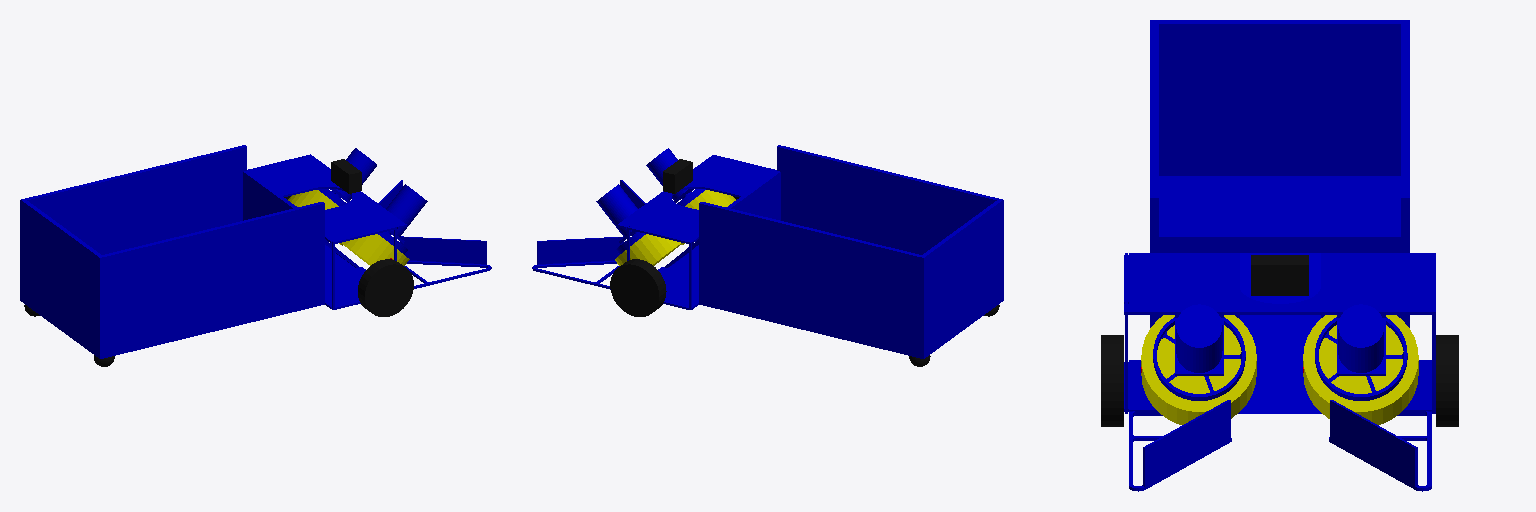
robot.urdf — tennis_bot:
<?xml version="1.0"?>
<robot name="tennis_bot">

  <!-- 註解方式 -->
  <link name="base_link">
  </link>

  <joint name="base_to_chassis" type="fixed">
    <parent link="base_link"/>
    <child link="front_chassis"/>
    <origin xyz="0 0 0.02" rpy="0 0 -1.5708"/>  
  </joint>
  <joint name="base_to_rear" type="fixed">
    <parent link="base_link"/>
    <child link="rear_basket"/>
    <origin xyz="0 -0.01 0" rpy="0 0 -1.5708"/> 
  </joint>
  
  <!-- 前車體 -->
  <link name="front_chassis">
    <visual>
      <geometry>
        <mesh filename="package://tennis_bot/urdf/meshes/front_chassis.stl" scale="0.001 0.001 0.001"/>
      </geometry>
      <material name="blue">
        <color rgba="0 0 0.8 1"/>
      </material>
    </visual>
    <inertial>
      <mass value="0.1"/>
      <inertia ixx="0.01" ixy="0.0" ixz="0.0" iyy="0.01" iyz="0.0" izz="0.01"/>
    </inertial>
  </link>
  
  <!-- 後車體 -->
  <link name="rear_basket">
    <visual>
      <geometry>
        <mesh filename="package://tennis_bot/urdf/meshes/rear_basket.stl" scale="0.001 0.001 0.001"/>
      </geometry>
      <material name="blue">
        <color rgba="0 0 0.8 1"/>
      </material>
    </visual>
    <collision>
      <geometry>
        <mesh filename="package://tennis_bot/urdf/meshes/rear_basket.stl" scale="0.001 0.001 0.001"/>
      </geometry>
    </collision>
    <inertial>
      <mass value="0.5"/>
      <inertia ixx="0.05" ixy="0.05" ixz="0.05" iyy="0.05" iyz="0.05" izz="0.05"/>
    </inertial>
  </link>

  <!-- 左滾輪 -->
  <link name="left_roller">
    <visual>
      <geometry><cylinder radius="0.05" length="0.04"/></geometry>
      <material name="blue"><color rgba="0.8 0.8 0 1"/></material>
    </visual>
    <visual>
      <origin xyz="0.045 0 0" rpy="0 0 0"/> <geometry><box size="0.01 0.01 0.01"/></geometry>
      <material name="red"><color rgba="1 0 0 1"/></material>
    </visual>
    <!-- 撿球改用物理滾輪：恢復碰撞 (原始版本就是半徑0.045)，海綿壓縮用下面 gazebo reference 的 kp/kd -->
    <collision>
      <geometry><cylinder radius="0.045" length="0.04"/></geometry>
    </collision>
    <inertial>
      <mass value="0.5"/>
      <inertia ixx="0.0005" ixy="0.0" ixz="0.0" iyy="0.0005" iyz="0.0" izz="0.0005"/>
    </inertial>
  </link>

  <joint name="left_roller_joint" type="continuous">
    <parent link="front_chassis"/>
    <child link="left_roller"/>
    <!--origin xyz="0.065 0.15 0.03" rpy="-0.785398 0 0"/-->
    <origin xyz="0.065 0.102322 0.045104" rpy="-0.785398 0 0"/>
    <axis xyz="0 0 1"/>
  </joint>

  <!-- 右滾輪 -->
  <link name="right_roller">
    <visual>
      <geometry><cylinder radius="0.05" length="0.04"/></geometry>
      <material name="blue"><color rgba="0.8 0.8 0 1"/></material>
    </visual>
    <visual>
      <origin xyz="0.045 0 0" rpy="0 0 0"/> <geometry><box size="0.01 0.01 0.01"/></geometry>
      <material name="red"><color rgba="1 0 0 1"/></material>
    </visual>
    <!-- 撿球改用物理滾輪：恢復碰撞 (原始版本就是半徑0.045)，海綿壓縮用下面 gazebo reference 的 kp/kd -->
    <collision>
      <geometry><cylinder radius="0.045" length="0.04"/></geometry>
    </collision>
    <inertial>
      <mass value="0.5"/>
      <inertia ixx="0.0005" ixy="0.0" ixz="0.0" iyy="0.0005" iyz="0.0" izz="0.0005"/>
    </inertial>
  </link>

  <joint name="right_roller_joint" type="continuous">
    <parent link="front_chassis"/>
    <child link="right_roller"/>
    <!--origin xyz="0.205 0.15 0.03" rpy="-0.785398 0 0"/-->
    <origin xyz="0.205 0.102322 0.045104" rpy="-0.785398 0 0"/>
    <axis xyz="0 0 1"/>
  </joint>

  <!-- 左驅動輪 -->
  <link name="left_drive_wheel">
    <visual>
      <geometry>
        <cylinder radius="0.04" length="0.02"/>
      </geometry>
      <material name="black">
        <color rgba="0.1 0.1 0.1 1"/>
      </material>
    </visual>
    <collision>
      <geometry><cylinder radius="0.04" length="0.02"/></geometry>
      <surface><friction><ode><mu>5.0</mu><mu2>5.0</mu2></ode></friction></surface>
    </collision>
    <inertial>
      <mass value="0.2"/>
      <inertia ixx="0.01" ixy="0.0" ixz="0.0" iyy="0.01" iyz="0.0" izz="0.01"/>
    </inertial>
  </link>

  <joint name="left_wheel_joint" type="continuous">
    <parent link="front_chassis"/>
    <child link="left_drive_wheel"/>
    <origin xyz="-0.01 0.08 0.02" rpy="0 1.5708 0"/>
    <axis xyz="0 0 -1"/> 
  </joint>

  <!-- 右驅動輪 -->
  <link name="right_drive_wheel">
    <visual>
      <geometry>
        <cylinder radius="0.04" length="0.02"/>
      </geometry>
      <material name="black"/>
    </visual>
    <collision>
      <geometry><cylinder radius="0.04" length="0.02"/></geometry>
      <surface><friction><ode><mu>5.0</mu><mu2>5.0</mu2></ode></friction></surface>
    </collision>
    <inertial>
      <mass value="0.2"/>
      <inertia ixx="0.01" ixy="0.0" ixz="0.0" iyy="0.01" iyz="0.0" izz="0.01"/>
    </inertial>
  </link>

  <joint name="right_wheel_joint" type="continuous">
    <parent link="front_chassis"/>
    <child link="right_drive_wheel"/>
    <origin xyz="0.28 0.08 0.02" rpy="0 1.5708 0"/>
    <axis xyz="0 0 -1"/>
  </joint>

  <!-- 後車體左萬象輪 -->
  <link name="rear_left_caster">
    <visual>
      <geometry><sphere radius="0.015"/></geometry>
      <material name="black"/>
    </visual>
    <collision>
      <geometry><sphere radius="0.015"/></geometry>
      <surface><friction><ode><mu>0.0</mu><mu2>0.0</mu2></ode></friction></surface>
    </collision>
    <inertial>
      <mass value="0.1"/>
      <inertia ixx="0.0001" ixy="0.0" ixz="0.0" iyy="0.0001" iyz="0.0" izz="0.0001"/>
    </inertial>
  </link>

  <joint name="rear_left_caster_joint" type="fixed">
    <parent link="rear_basket"/>
    <child link="rear_left_caster"/>
    <origin xyz="0.028 -0.349 0.015" rpy="0 0 0"/>
  </joint>

  <!-- 後車體右萬象輪 -->
  <link name="rear_right_caster">
    <visual>
      <geometry><sphere radius="0.015"/></geometry>
      <material name="black"/>
    </visual>
    <collision>
      <geometry><sphere radius="0.015"/></geometry>
      <surface><friction><ode><mu>0.0</mu><mu2>0.0</mu2></ode></friction></surface>
    </collision>
    <inertial>
      <mass value="0.1"/>
      <inertia ixx="0.0001" ixy="0.0" ixz="0.0" iyy="0.0001" iyz="0.0" izz="0.0001"/>
    </inertial>
  </link>

  <joint name="rear_right_caster_joint" type="fixed">
    <parent link="rear_basket"/>
    <child link="rear_right_caster"/>
    <origin xyz="0.222 -0.349 0.015" rpy="0 0 0"/>
  </joint>



  <!-- gazebo 滾輪 -->
  <gazebo reference="left_roller">
    <material>Gazebo/Blue</material>
    <mu1>1.5</mu1>
    <mu2>1.5</mu2>
    <kp>150</kp>
    <kd>4.2</kd>
    <min_depth>0.001</min_depth>
    <max_vel>10</max_vel>
  </gazebo>
  <gazebo reference="right_roller">
    <material>Gazebo/Blue</material>
    <mu1>1.5</mu1>
    <mu2>1.5</mu2>
    <kp>150</kp>
    <kd>4.2</kd>
    <min_depth>0.001</min_depth>
    <max_vel>10</max_vel>
  </gazebo>
  
    <gazebo>
    <plugin name="roller_drive" filename="libgazebo_ros_diff_drive.so">
      <ros>
        <namespace>/</namespace>
        <remapping>cmd_vel:=roller_cmd</remapping>
        <remapping>odom:=roller_odom_dump</remapping>
      </ros>
      <left_joint>left_roller_joint</left_joint>
      <right_joint>right_roller_joint</right_joint>
      <wheel_separation>0.14</wheel_separation>
      <wheel_diameter>0.09</wheel_diameter>
      <max_wheel_torque>50.0</max_wheel_torque>
      <max_wheel_acceleration>10.0</max_wheel_acceleration>
      <publish_odom>false</publish_odom>
      <publish_odom_tf>false</publish_odom_tf>
      <publish_wheel_tf>false</publish_wheel_tf>
    </plugin>
  </gazebo>
  <gazebo>
    <plugin name="joint_state_publisher" filename="libgazebo_ros_joint_state_publisher.so">
      <ros>
        <namespace>/</namespace>
      </ros>
      <update_rate>30</update_rate>
      <joint_name>left_wheel_joint</joint_name>
      <joint_name>right_wheel_joint</joint_name>
      <joint_name>left_roller_joint</joint_name>
      <joint_name>right_roller_joint</joint_name>
    </plugin>
  </gazebo>


  <!-- gazebo 驅動倫 -->
  <gazebo reference="left_drive_wheel">
    <mu1>200.0</mu1>
    <mu2>200.0</mu2>
    <material>Gazebo/Black</material>
  </gazebo>
  <gazebo reference="right_drive_wheel">
    <mu1>200.0</mu1>
    <mu2>200.0</mu2>
    <material>Gazebo/Black</material>
  </gazebo>

  <gazebo>
    <plugin name="diff_drive" filename="libgazebo_ros_diff_drive.so">
      <ros>
        <namespace>/</namespace>
        <remapping>cmd_vel:=cmd_vel</remapping>
        <remapping>odom:=odom</remapping>
      </ros>
      <left_joint>left_wheel_joint</left_joint>
      <right_joint>right_wheel_joint</right_joint>
      <wheel_separation>0.27</wheel_separation>
      <wheel_diameter>0.08</wheel_diameter>
      <max_wheel_torque>2.0</max_wheel_torque>
      <max_wheel_acceleration>1.0</max_wheel_acceleration>
      <publish_odom>true</publish_odom>
      <publish_odom_tf>true</publish_odom_tf>
      <publish_wheel_tf>true</publish_wheel_tf>
      <odometry_frame>odom</odometry_frame>
      <robot_base_frame>base_link</robot_base_frame>
    </plugin>
  </gazebo> 

<link name="camera_link">
    <visual>
      <geometry><box size="0.02 0.05 0.03"/></geometry>
      <material name="black"><color rgba="0.1 0.1 0.1 1"/></material>
    </visual>
    <inertial>
      <mass value="0.005"/>
      <inertia ixx="0.0001" ixy="0.0" ixz="0.0" iyy="0.0001" iyz="0.0" izz="0.0001"/>
    </inertial>
</link>

<joint name="camera_joint" type="fixed">
    <parent link="front_chassis"/>
    <child link="camera_link"/>
    <origin xyz="0.135 0.1 0.13" rpy="0 0 1.5708"/> 
</joint>

<gazebo reference="camera_link">
    <sensor type="camera" name="tennis_camera">
      <update_rate>30.0</update_rate>
      <camera name="head">
        <horizontal_fov>1.396</horizontal_fov>
        <image>
          <width>640</width>
          <height>480</height>
          <format>R8G8B8</format>
        </image>
        <clip>
          <near>0.02</near>
          <far>300</far>
        </clip>
      </camera>
      <plugin name="camera_controller" filename="libgazebo_ros_camera.so">
        <ros>
          <namespace>/</namespace>
          <remapping>~/image_raw:=tennis_camera/image_raw</remapping>
        </ros>
        <camera_name>tennis_camera</camera_name>
        <frame_name>camera_link</frame_name>
      </plugin>
    </sensor>
  </gazebo>

  <!-- 理想陀螺儀 (IMU)：直接量測車體真實角速度，不經過輪子，不受打滑影響。
       沒有加 <noise> 區塊 = 完美無誤差，先驗證「陀螺儀角速度取代輪速角速度」
       這個方向本身有沒有用，之後如果要驗證現實可行性，再加雜訊/偏移模型。
       base_link 完全是空的 (沒有 inertial)，感測器直接掛上去 Gazebo 沒有正確
       產生 /imu topic，所以跟 camera_link 一樣另外開一個小 link 掛感測器。 -->
  <link name="imu_link">
    <inertial>
      <mass value="0.001"/>
      <inertia ixx="0.00001" ixy="0.0" ixz="0.0" iyy="0.00001" iyz="0.0" izz="0.00001"/>
    </inertial>
  </link>

  <joint name="imu_joint" type="fixed">
    <parent link="base_link"/>
    <child link="imu_link"/>
    <origin xyz="0 -0.135 0" rpy="0 0 0"/>
  </joint>

  <gazebo reference="imu_link">
    <sensor name="imu_sensor" type="imu">
      <always_on>true</always_on>
      <update_rate>1000</update_rate>
      <visualize>true</visualize>
      <imu></imu>
      <plugin name="imu_plugin" filename="libgazebo_ros_imu_sensor.so">
        <ros>
          <namespace>/</namespace>
          <remapping>~/out:=imu</remapping>
        </ros>
        <initial_orientation_as_reference>false</initial_orientation_as_reference>
      </plugin>
    </sensor>
  </gazebo>

</robot>

--- Render facts (derived) ---
Views: 3 orthographic renders of the robot side by side, from view 1: azimuth 30°, elevation 25°; view 2: azimuth 150°, elevation 25°; view 3: azimuth 270°, elevation 25°.
Model tennis_bot with 11 links and 10 joints (4 continuous, 6 fixed), rooted at base_link, posed every joint at zero.
Visible links, largest first — view 1: rear_basket, front_chassis, right_drive_wheel, right_roller, camera_link, left_roller; view 2: rear_basket, front_chassis, left_drive_wheel, left_roller, camera_link; view 3: rear_basket, front_chassis, left_roller, right_roller, camera_link, left_drive_wheel, right_drive_wheel.
Boxes of the visible links, <box> form: rear_basket: <box>20,145,324,358</box>; front_chassis: <box>247,148,491,309</box>; right_drive_wheel: <box>358,259,413,316</box>; right_roller: <box>342,234,409,265</box>; camera_link: <box>331,159,361,193</box>; left_roller: <box>288,190,342,245</box>; rear_basket: <box>699,145,1003,358</box>; front_chassis: <box>532,148,776,309</box>; left_drive_wheel: <box>610,259,666,316</box>; left_roller: <box>615,234,682,265</box>; camera_link: <box>663,159,692,193</box>; rear_basket: <box>1150,20,1409,327</box>; front_chassis: <box>1124,253,1435,491</box>; left_roller: <box>1303,315,1418,424</box>; right_roller: <box>1141,315,1256,424</box>; camera_link: <box>1251,255,1308,295</box>; left_drive_wheel: <box>1436,335,1458,426</box>; right_drive_wheel: <box>1101,335,1123,426</box>.
Bounding box of the posed robot: 0.627 × 0.31 × 0.177 m (x, y, z).
Meshes: 2 distinct files referenced, 2 mesh visuals loaded (2 binary STL).
